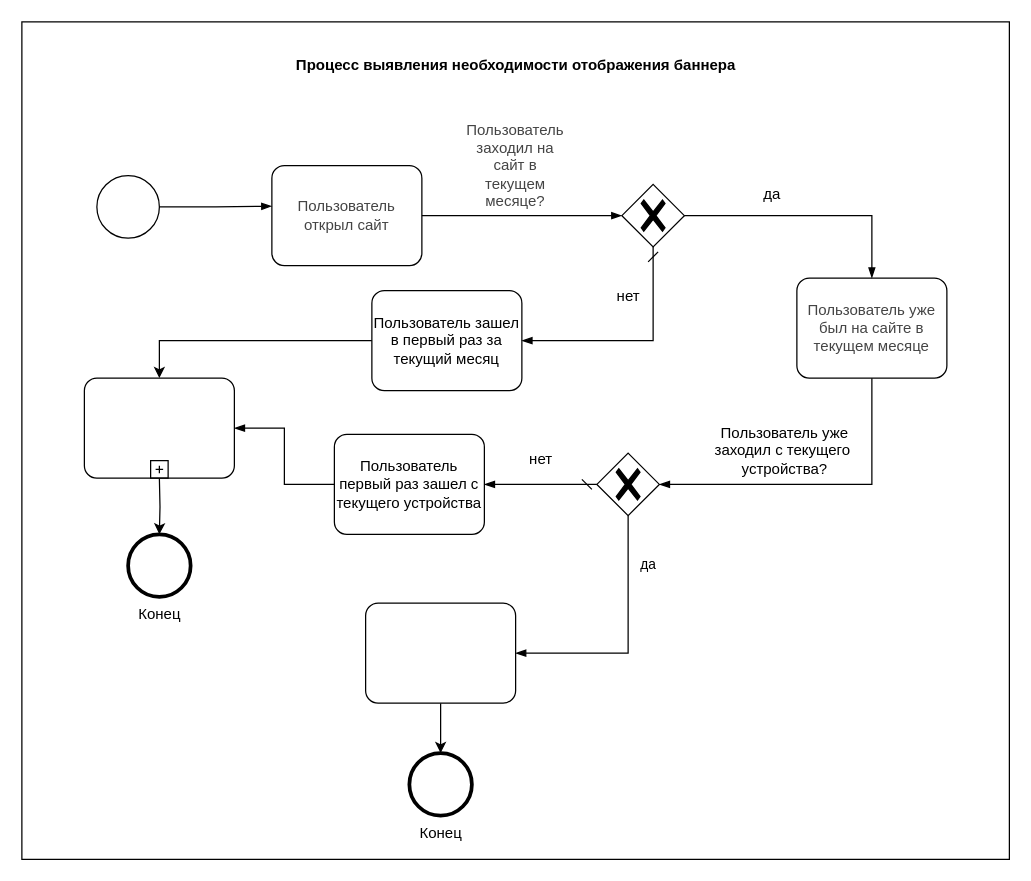
This 1031x881 diagram has some shape labels left out. Here are the shapes that lost their labels. From the top down, the centre of each, then its label:
At point (127, 206): "Начало".
At point (158, 427): "Отобразить баннер".
At point (440, 652): "Пользователь уже заходил с текущего устройства".
